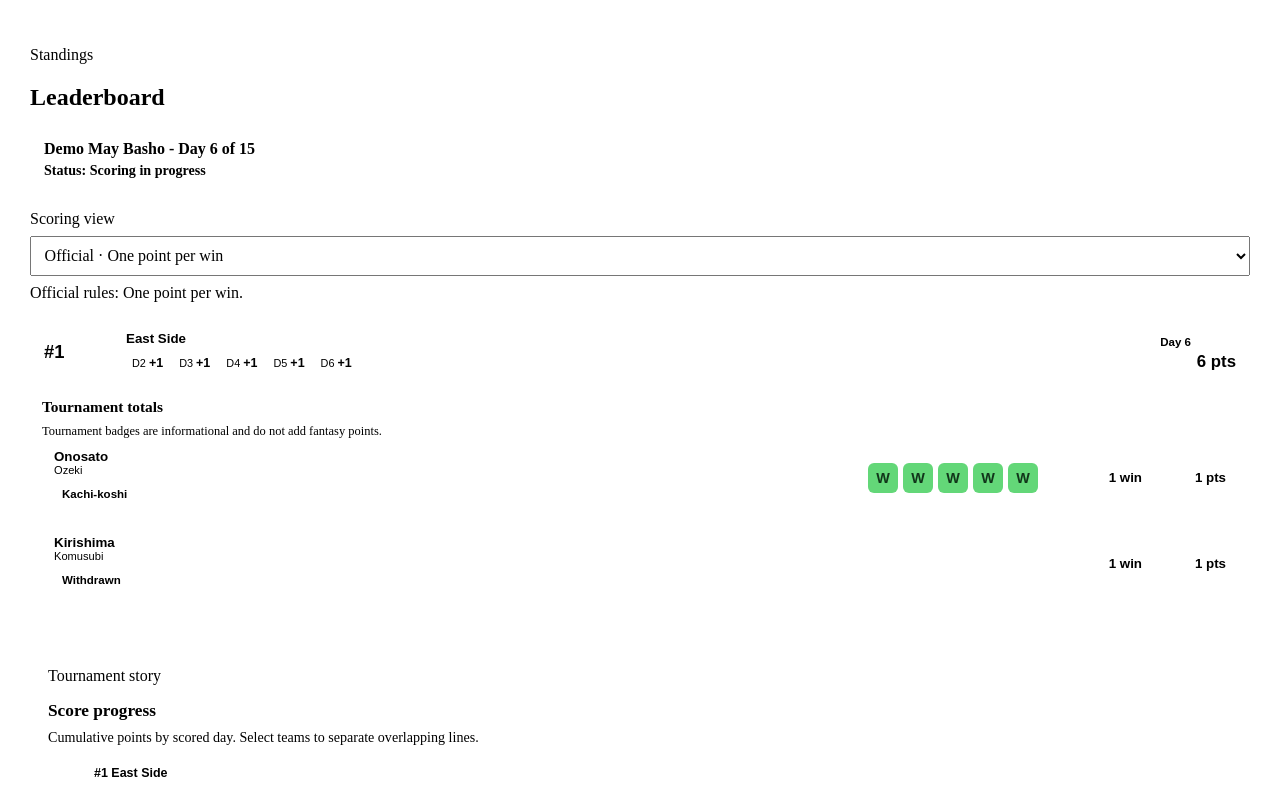
LeaderboardPanel › limits compact team and rikishi form to the five latest results
This screenshot has width=1280, height=800.
Expected: the element named "Recent form: day 2 +1, day 3 +1, day 4 +1, day 5 +1, day 6 +1" is shown, [132,356,352,370]
Expected: the element named "Recent results for Onosato: day 2 Win, day 3 Win, day 4 Win, day 5 Win, day 6 Win" is shown, [868,463,1038,493]
What coordinates should you click on to do the following:
click the button "Onosato Ozeki Kachi-koshi W W W W W 1 win 1 pts"
I would click on:
 (81, 456)
Its box is [42,439,1238,517].
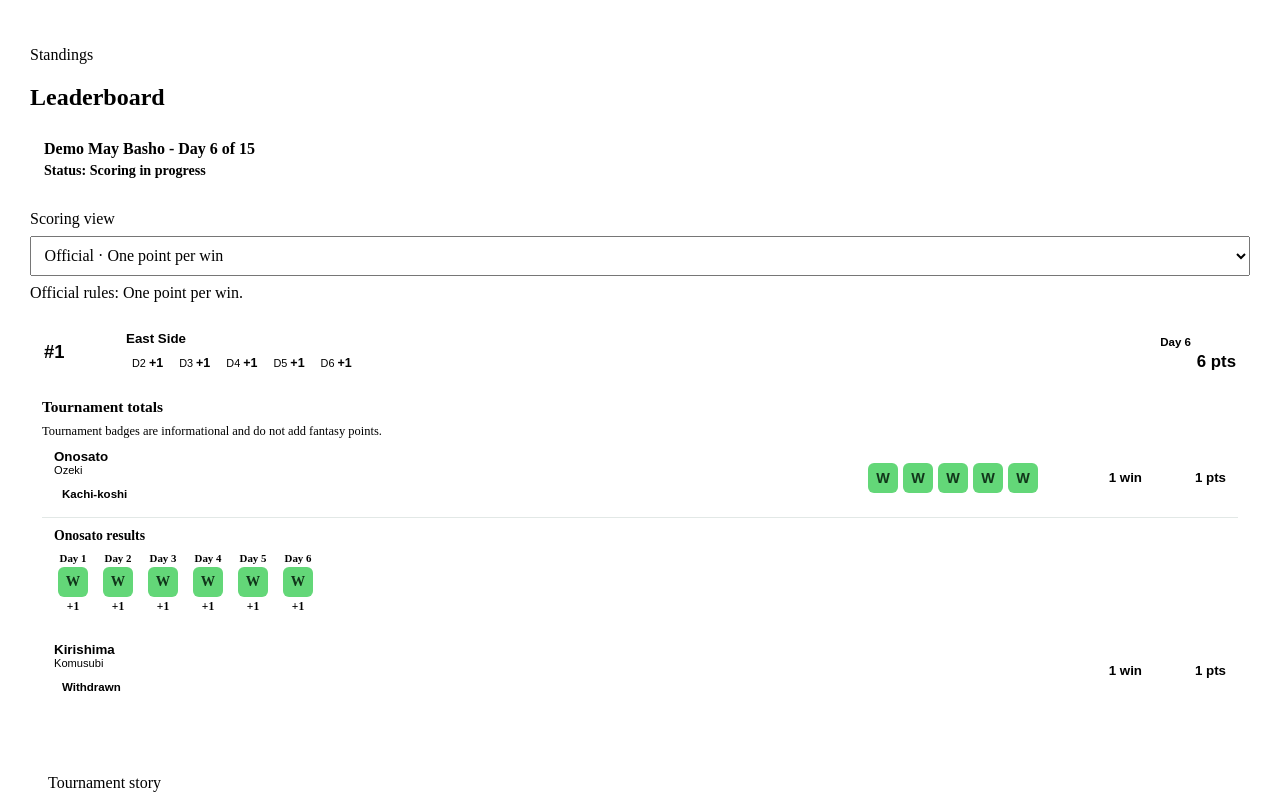
Now the list item with aria-label "Day 1: Win, +1 point" is shown, box [58,552,88,612]
Now the list item with aria-label "Day 6: Win, +1 point" is shown, box [283,552,313,612]
